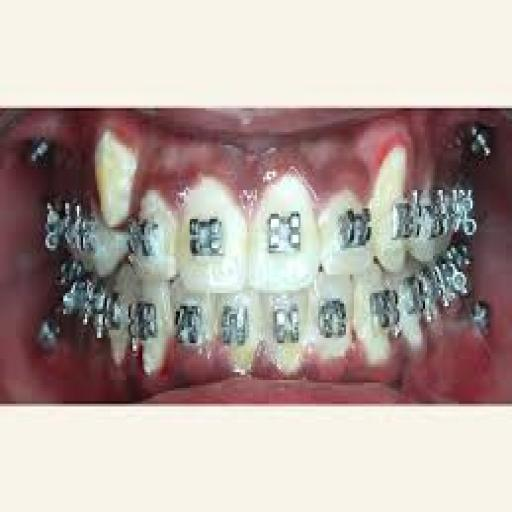correct_brace: (264, 207, 305, 260), (186, 210, 226, 262), (336, 203, 372, 252)
incorrect_brace: (320, 183, 375, 276)
